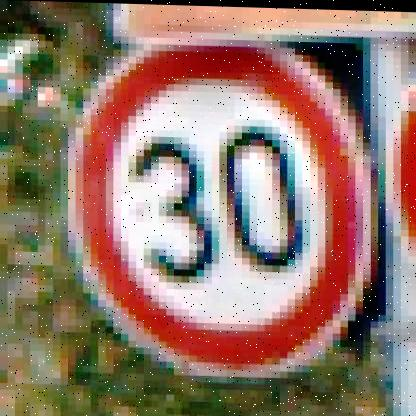Speed Limit -30-: (65, 33, 374, 383)
